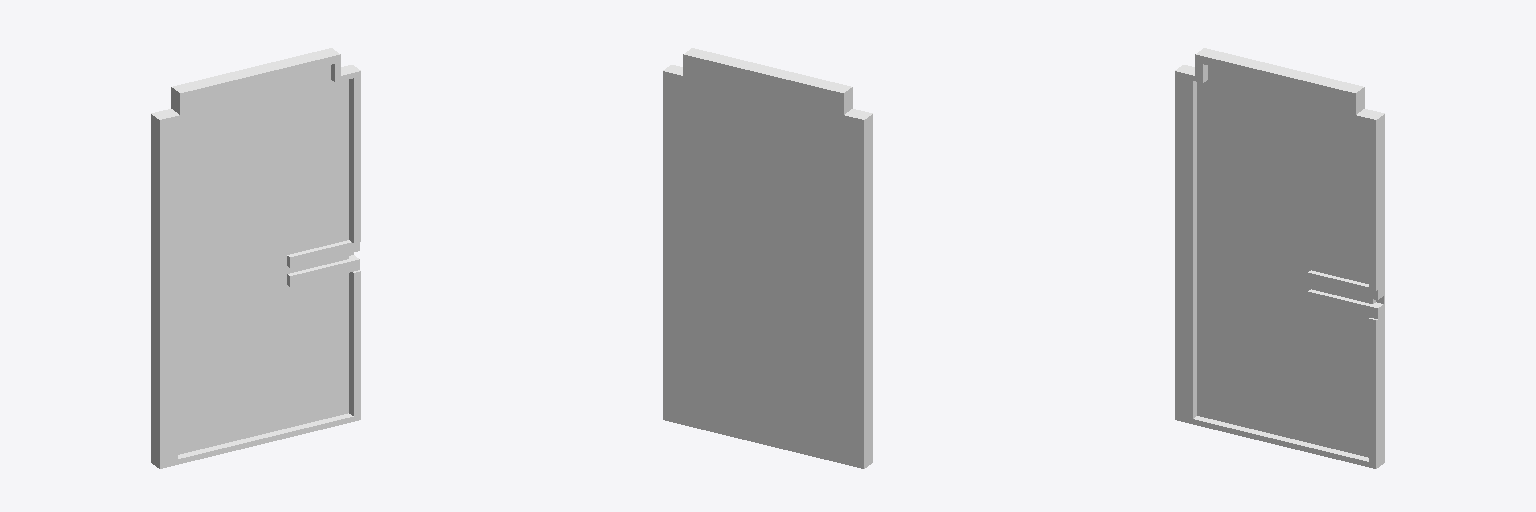
Rendered from Dungeon_Tür_ohne_Wand.obj.
3 views of the same model, side by side, from view 1: azimuth 30°, elevation 25°; view 2: azimuth 150°, elevation 25°; view 3: azimuth 330°, elevation 25° (orthographic).
Visible parts, largest first — view 1: object 1; view 2: object 1; view 3: object 1.
Part boxes in pixels (left/top/right/bottom): object 1: left=151, top=48, right=360, bottom=468; object 1: left=663, top=48, right=872, bottom=468; object 1: left=1175, top=48, right=1384, bottom=468.
Bounding box in the file's own units: 7.8 × 13.7 × 0.6.